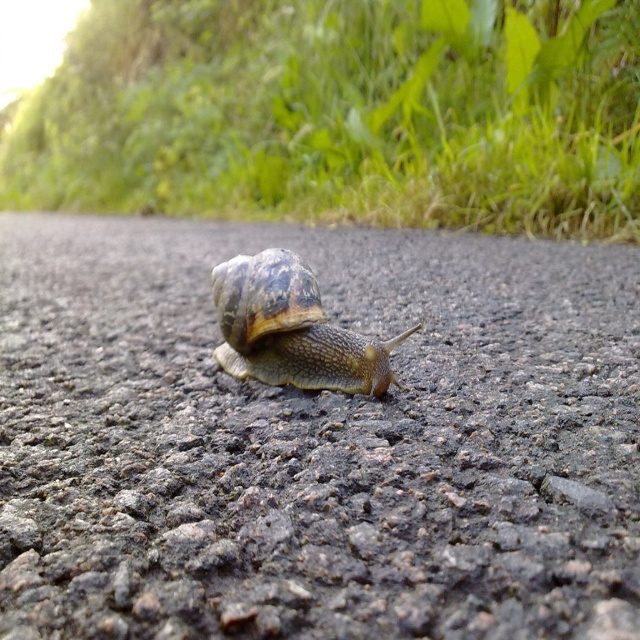Snail: (210, 243, 422, 402)
